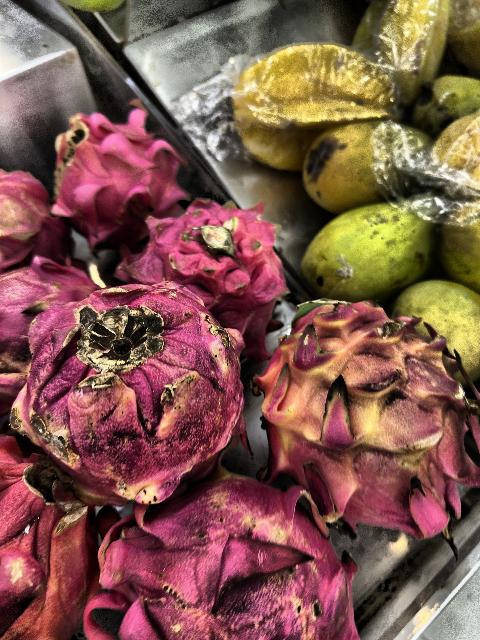buah-naga-belum-matang: (266, 294, 480, 532), (92, 464, 362, 640), (19, 282, 235, 472), (0, 430, 102, 640), (0, 264, 94, 366), (0, 160, 80, 268)
buah-naga-matang: (133, 195, 287, 328), (52, 117, 182, 236)
